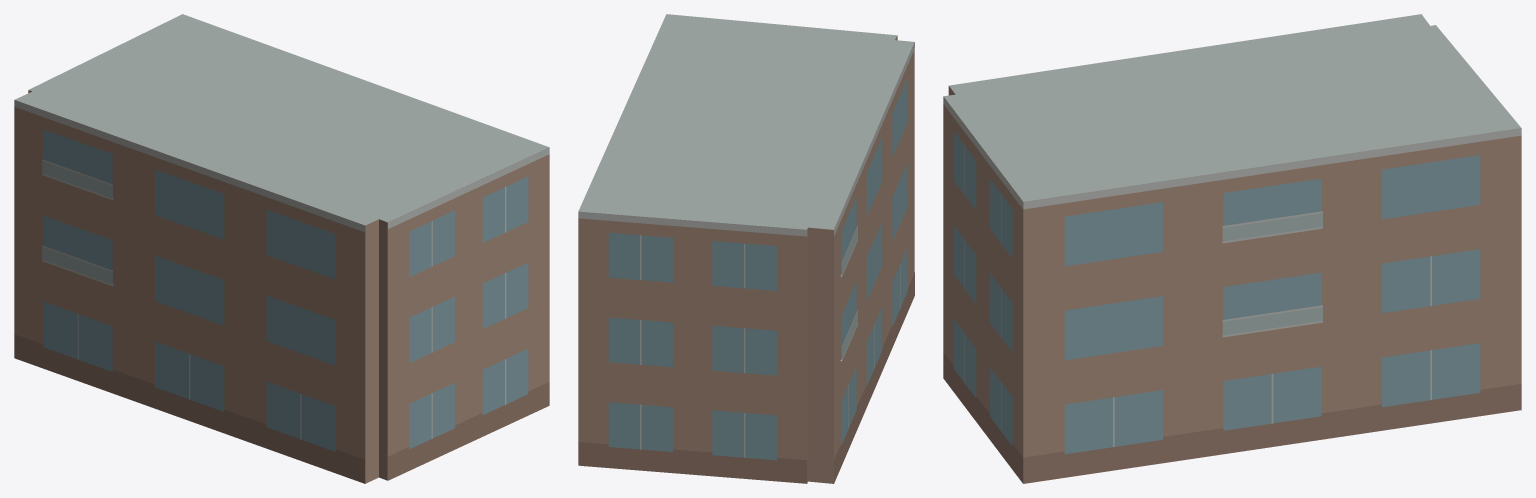
Rendered from survey-upis-32703979.glb.
3 renders of one model, left to right at view 1: azimuth 30°, elevation 25°; view 2: azimuth 150°, elevation 25°; view 3: azimuth 270°, elevation 25°, orthographic. The views are drawn at different scales.
Parts seen in each view (by area): view 1: survey-upis-32703979.tmp; view 2: survey-upis-32703979.tmp; view 3: survey-upis-32703979.tmp.
Part boxes in pixels (box(x1,y1,x2,y2)): survey-upis-32703979.tmp: box(14, 14, 549, 483); survey-upis-32703979.tmp: box(578, 14, 914, 483); survey-upis-32703979.tmp: box(943, 14, 1521, 483).
Size of the model in its own units: 13.09 by 9.15 by 17.02.
